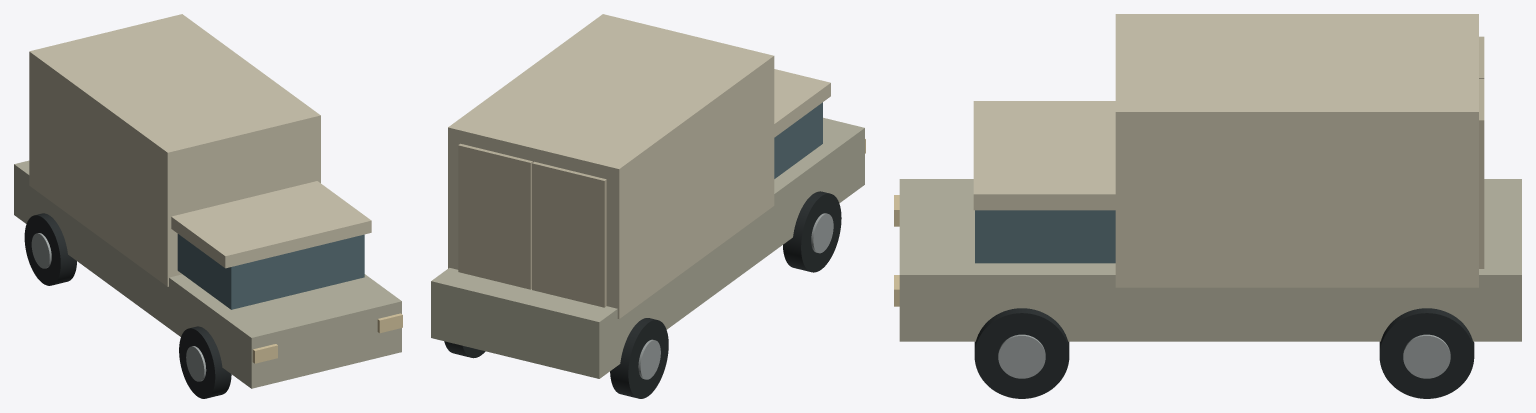
The model's file is parked_delivery_van.glb.
3 renders of one model, left to right at view 1: azimuth 30°, elevation 25°; view 2: azimuth 150°, elevation 25°; view 3: azimuth 270°, elevation 25°, orthographic. The views are drawn at different scales.
Parts seen in each view (by area): view 1: Cargo shell, Van floor, Cab roof, Cab windows, Tire.010, Tire.008, Hub.010, Hub.008, Headlamp.001, Headlamp; view 2: Cargo shell, Van floor, Rear door, Rear door.001, Tire.008, Tire.010, Cab roof, Cab windows, Hub.008, Hub.010; view 3: Cargo shell, Van floor, Cab roof, Cab windows, Tire.011, Tire.009, Hub.009, Hub.011, Rear door.001.
Part boxes in pixels (bbox=[...]): Cargo shell: bbox=[29, 14, 320, 286]; Van floor: bbox=[14, 160, 401, 388]; Cab roof: bbox=[171, 181, 371, 268]; Cab windows: bbox=[177, 234, 364, 309]; Tire.010: bbox=[24, 213, 76, 285]; Tire.008: bbox=[179, 326, 231, 398]; Hub.010: bbox=[31, 233, 51, 268]; Hub.008: bbox=[186, 346, 206, 381]; Headlamp.001: bbox=[377, 313, 402, 333]; Headlamp: bbox=[252, 344, 277, 363]; Cargo shell: bbox=[448, 14, 774, 318]; Van floor: bbox=[431, 117, 864, 378]; Rear door: bbox=[532, 161, 606, 307]; Rear door.001: bbox=[458, 143, 532, 289]; Tire.008: bbox=[783, 191, 841, 272]; Tire.010: bbox=[610, 318, 668, 398]; Cab roof: bbox=[774, 69, 830, 137]; Cab windows: bbox=[774, 102, 822, 178]; Hub.008: bbox=[811, 213, 833, 253]; Hub.010: bbox=[638, 339, 660, 379]; Cargo shell: bbox=[1115, 14, 1478, 287]; Van floor: bbox=[899, 179, 1521, 341]; Cab roof: bbox=[973, 101, 1115, 210]; Cab windows: bbox=[975, 210, 1115, 263]; Tire.011: bbox=[1379, 308, 1474, 398]; Tire.009: bbox=[974, 308, 1069, 398]; Hub.009: bbox=[998, 334, 1045, 378]; Hub.011: bbox=[1403, 334, 1450, 378]; Rear door.001: bbox=[1479, 79, 1484, 268].
Size of the model in its own units: 1.97 by 2.4 by 4.82.
